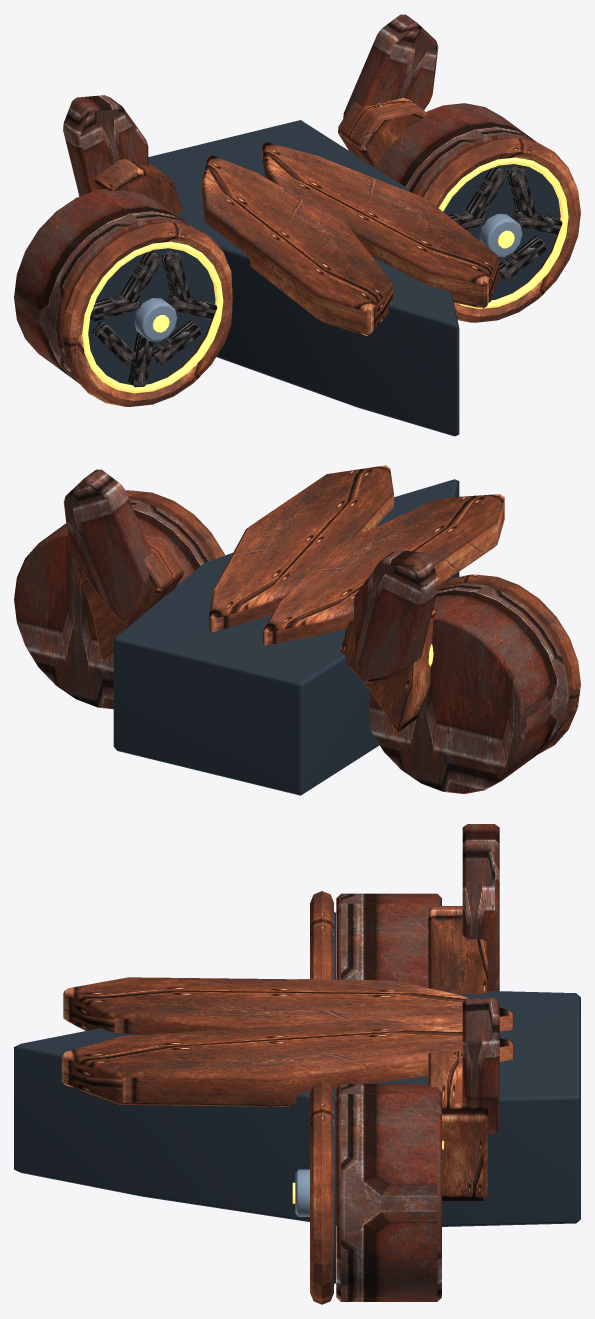
Rendered from flyer.glb.
3 renders of one model, top to bottom at view 1: azimuth 30°, elevation 25°; view 2: azimuth 150°, elevation 25°; view 3: azimuth 270°, elevation 25°, orthographic. The views are drawn at different scales.
Visible parts, largest first — view 1: Split arrow nose, Pointed interceptor chassis, Swept dorsal vane, Turbine impeller blade, Turbine running light, Turbine hub; view 2: Swept dorsal vane, Pointed interceptor chassis, Split arrow nose; view 3: Split arrow nose, Pointed interceptor chassis, Swept dorsal vane, Turbine hub.
Boxes of the visible parts, x1=… form: Split arrow nose: x1=62, y1=98, x2=580, y2=406; Pointed interceptor chassis: x1=88, y1=120, x2=560, y2=436; Swept dorsal vane: x1=14, y1=14, x2=536, y2=383; Turbine impeller blade: x1=90, y1=165, x2=562, y2=387; Turbine running light: x1=82, y1=157, x2=568, y2=393; Turbine hub: x1=134, y1=214, x2=522, y2=341; Swept dorsal vane: x1=14, y1=469, x2=569, y2=793; Pointed interceptor chassis: x1=113, y1=479, x2=459, y2=795; Split arrow nose: x1=78, y1=465, x2=580, y2=753; Split arrow nose: x1=61, y1=891, x2=513, y2=1304; Pointed interceptor chassis: x1=14, y1=911, x2=580, y2=1284; Swept dorsal vane: x1=336, y1=824, x2=499, y2=1301; Turbine hub: x1=295, y1=979, x2=309, y2=1216.
Size of the model in its own units: 1.47 by 0.6893 by 1.23.
Materials: 7 (3 with a texture image).
